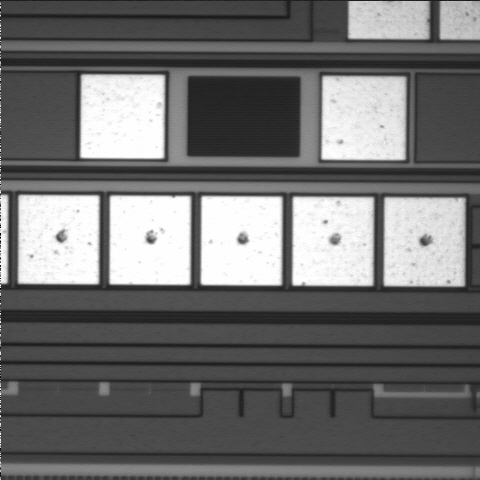pad: (109, 196, 191, 285), (292, 197, 374, 286), (18, 195, 99, 284), (201, 196, 282, 285), (80, 75, 165, 159), (321, 76, 406, 160), (384, 198, 465, 286)
